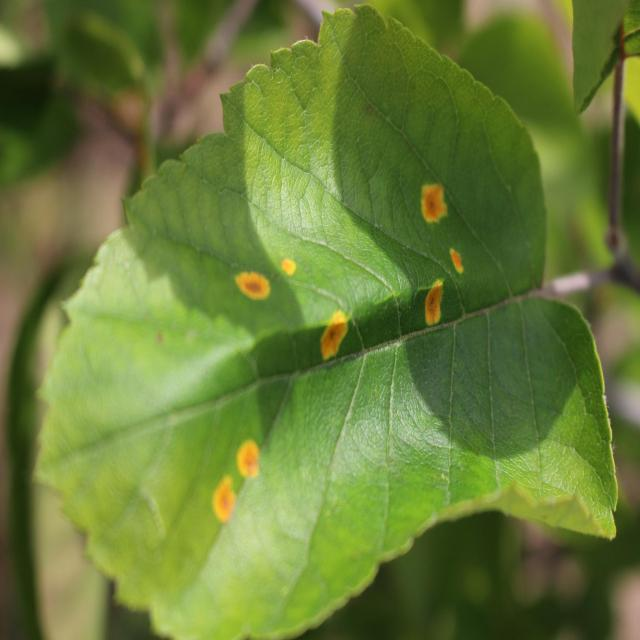Rust: (409, 171, 455, 240), (316, 304, 354, 373), (417, 271, 455, 339), (231, 264, 272, 306), (208, 471, 238, 525), (233, 434, 265, 484), (445, 240, 471, 281), (278, 254, 304, 288)
